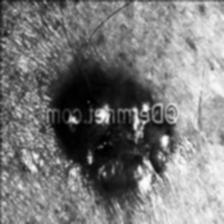Potentially Malignant Skin Tumors: (48, 123, 174, 194), (46, 74, 150, 110)
